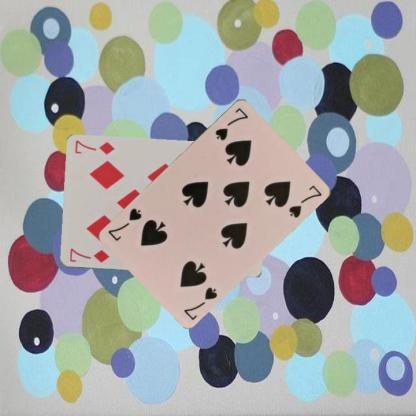7d: (66, 246, 110, 264)
7s: (212, 104, 250, 142), (181, 284, 219, 322)
